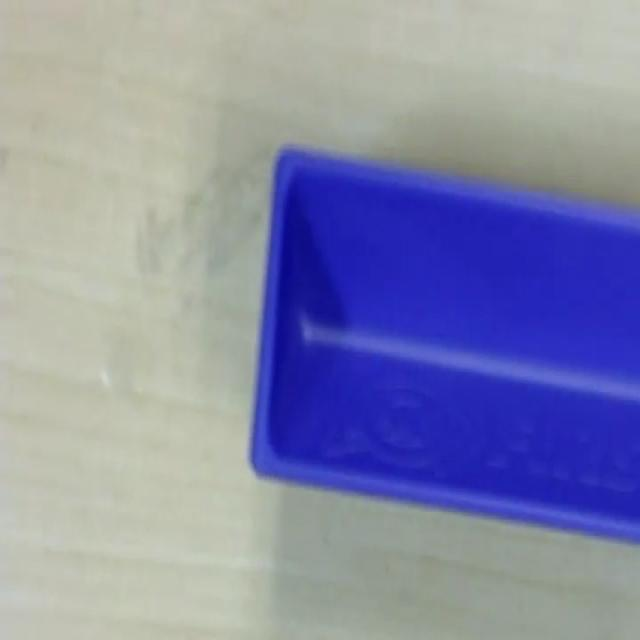blue_block: (247, 140, 638, 544)
